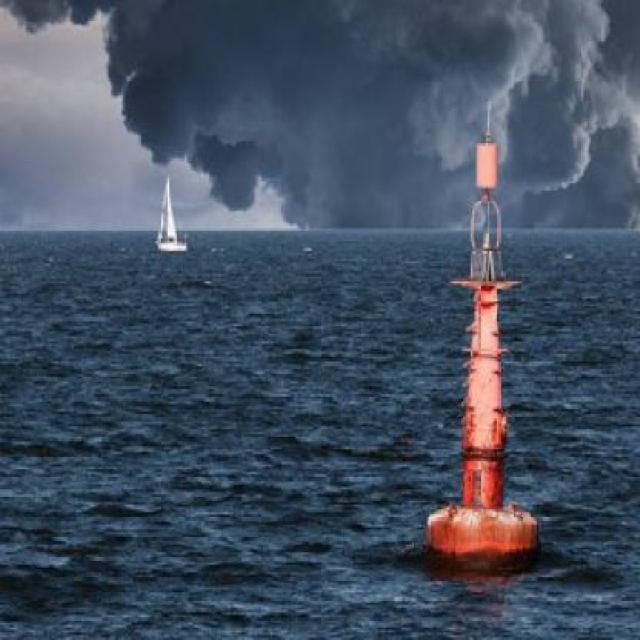buoy: (421, 81, 543, 573)
